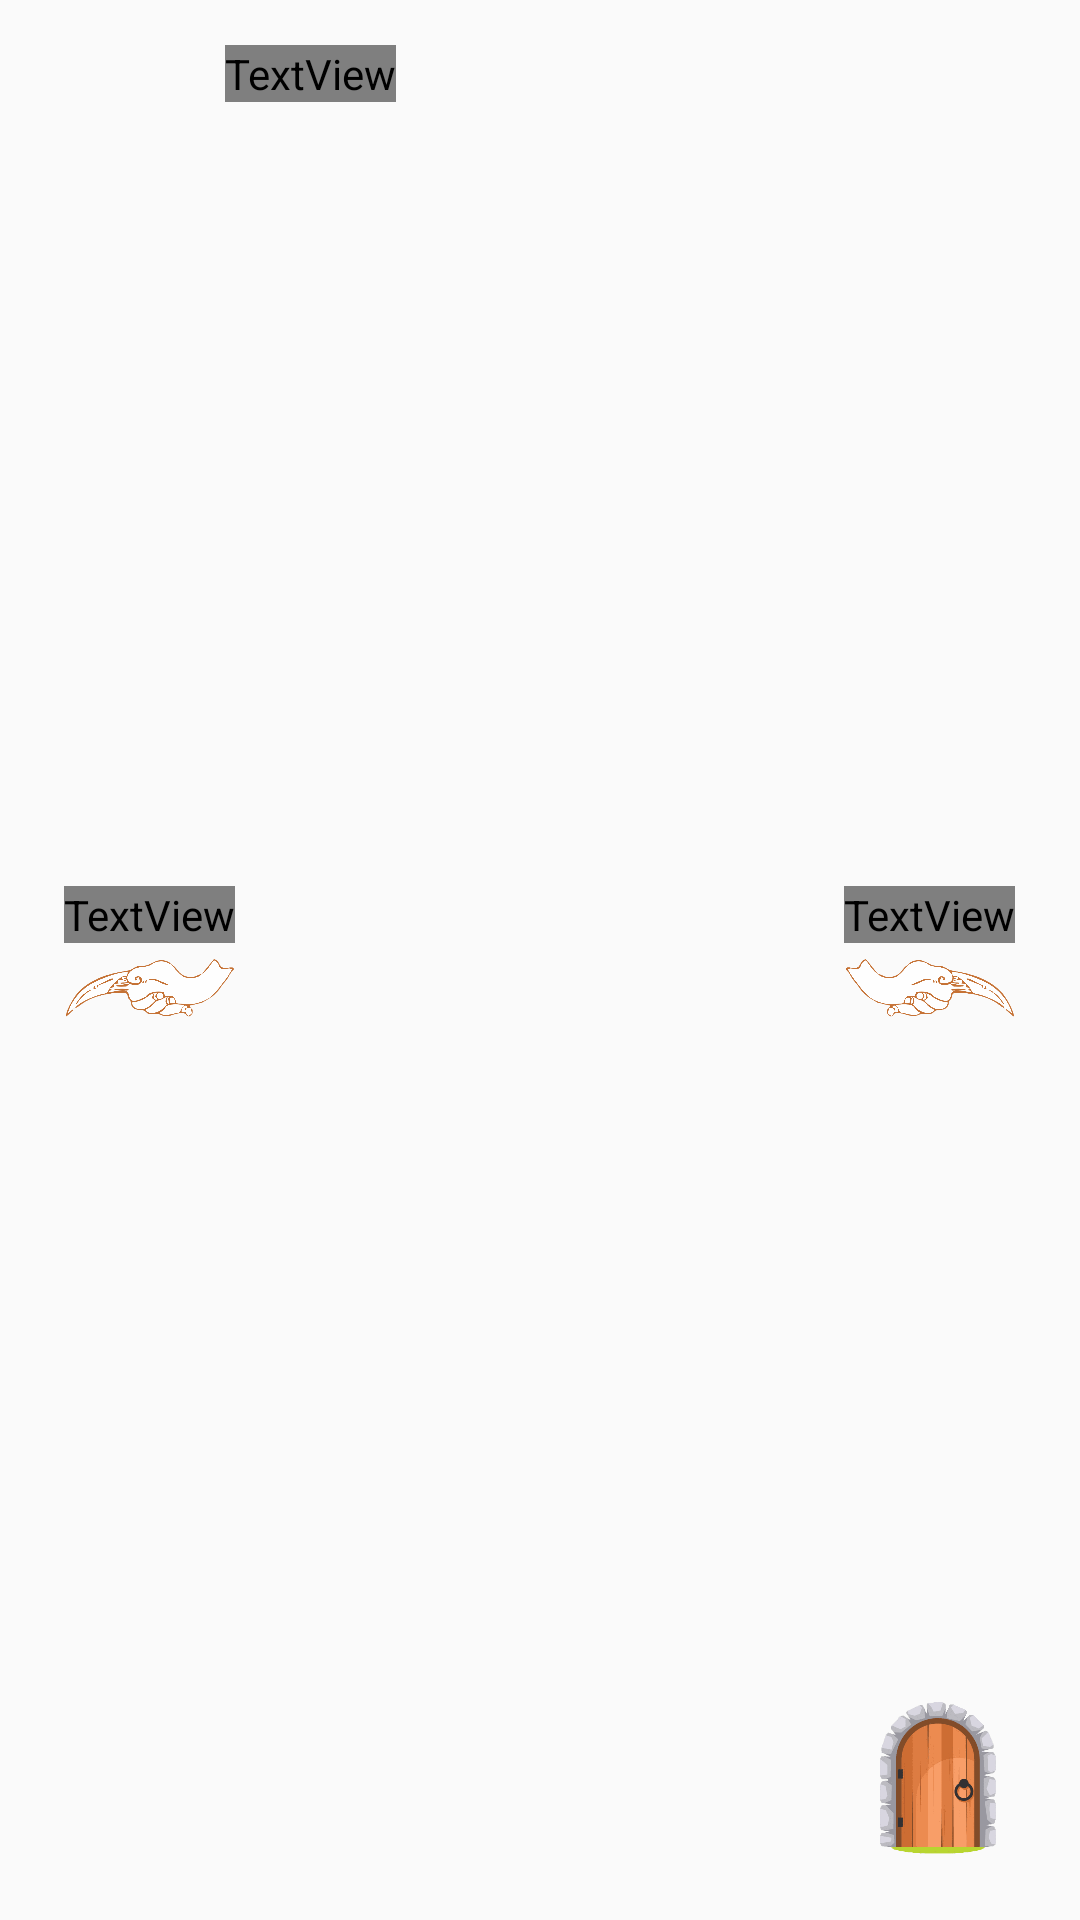

Named icons in this screenshot (1080 × 1920) and their bounding boxes, [x1, y1, x2, y2]:
keluar: [880, 1702, 996, 1854]
